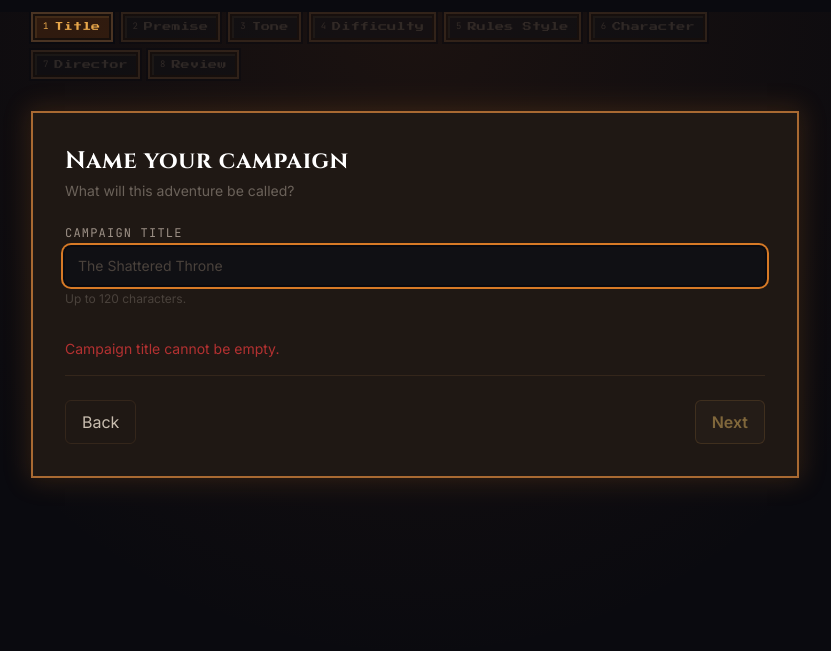
Test: CampaignWizard — tone selection › displays all four tone options
This screenshot has width=831, height=651.
In the field labelled "Campaign Title": (415, 266) left=65, top=247, right=765, bottom=285, type "Test"
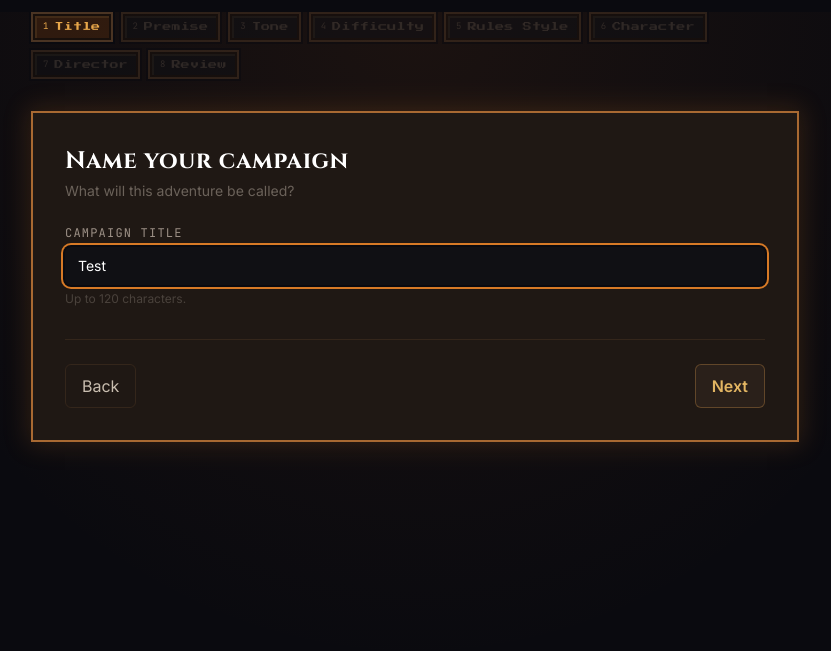
Click the button "Next": (730, 386) left=695, top=364, right=765, bottom=408
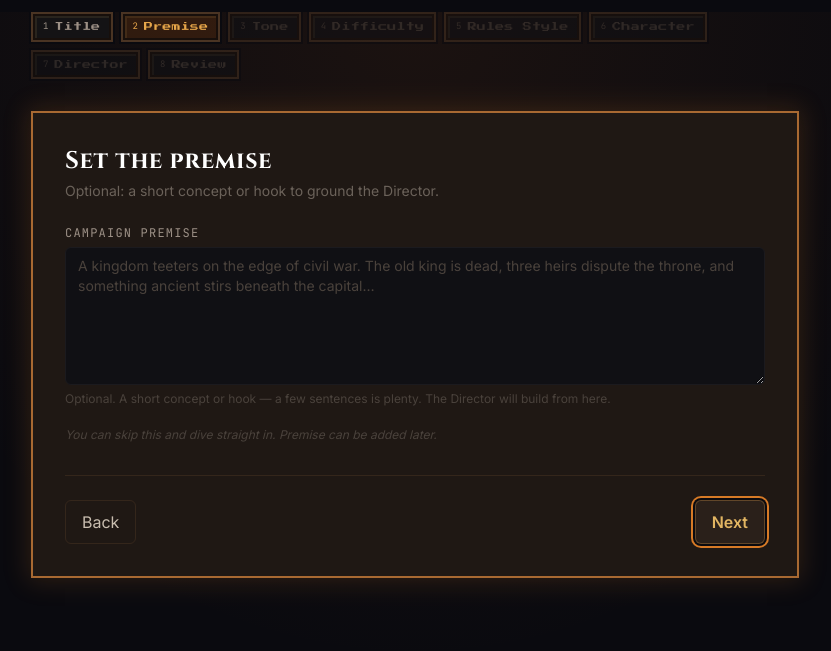
Click the button "Next": (730, 522) left=695, top=500, right=765, bottom=544
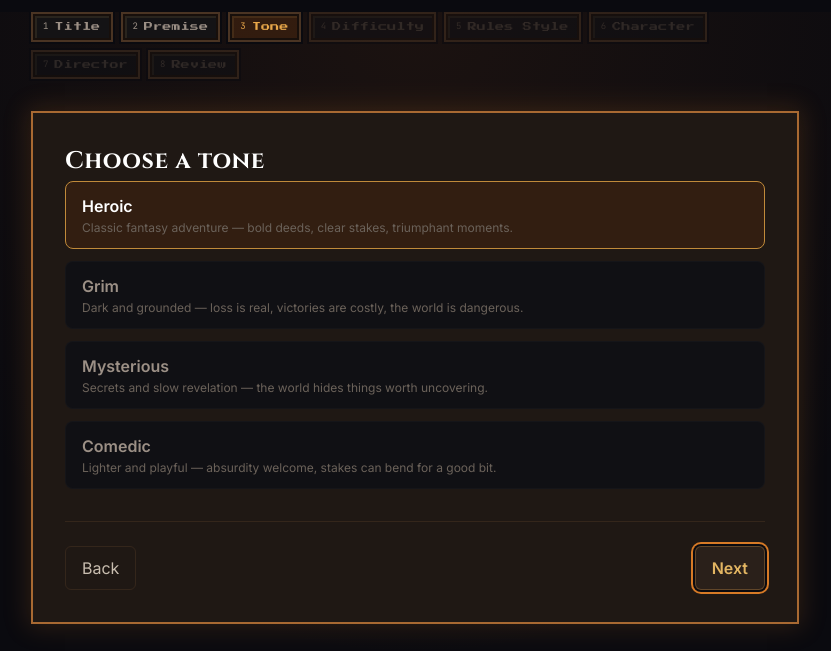
Result: the text "Heroic" is shown at left=82, top=196, right=133, bottom=216
Result: the text "Grim" is shown at left=82, top=276, right=119, bottom=296
Result: the text "Mysterious" is shown at left=82, top=356, right=169, bottom=376
